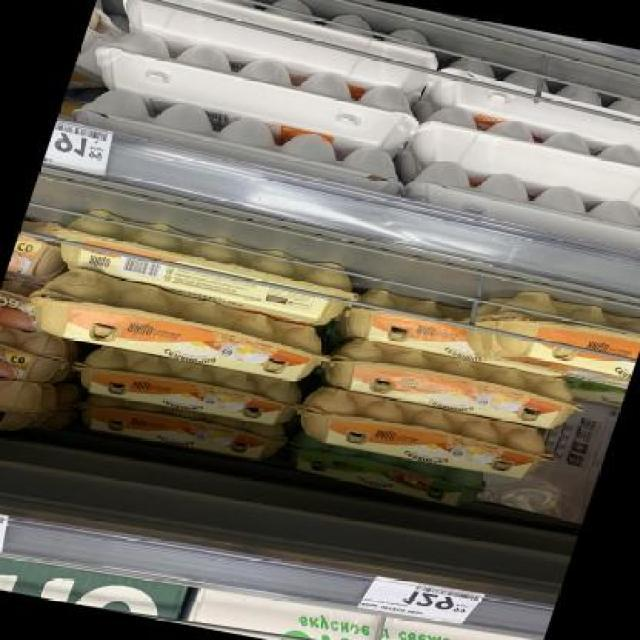egg: (16, 264, 335, 388), (289, 382, 566, 487), (314, 333, 594, 435), (66, 341, 312, 434), (65, 390, 292, 470), (466, 282, 640, 384), (0, 322, 83, 392)
